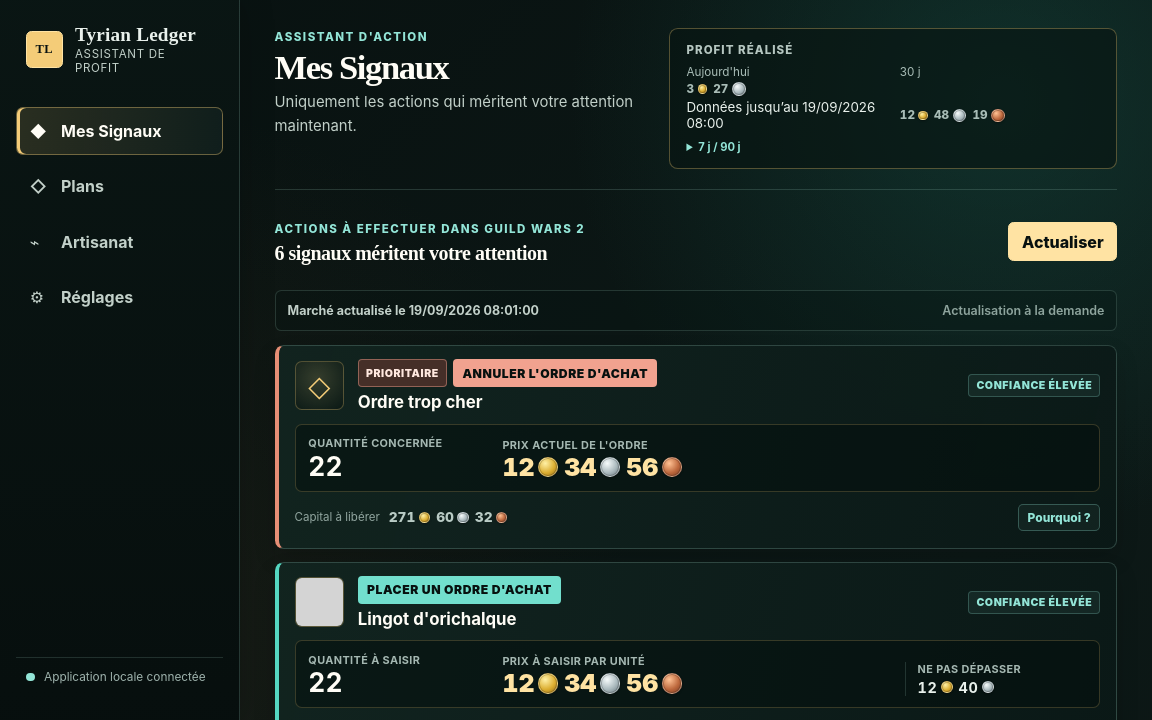
Mes Signaux MVP › labels source freshness explicitly without inventing a countdown
Expected: the text "Marché actualisé le 19/09/2026 08:01:00" is shown, [288,303,539,318]
Expected: the text "Actualisation à la demande" is shown, [942,303,1104,318]
Click the heading "Marché actualisé". click: (413, 310)
box: [288,303,1104,318]
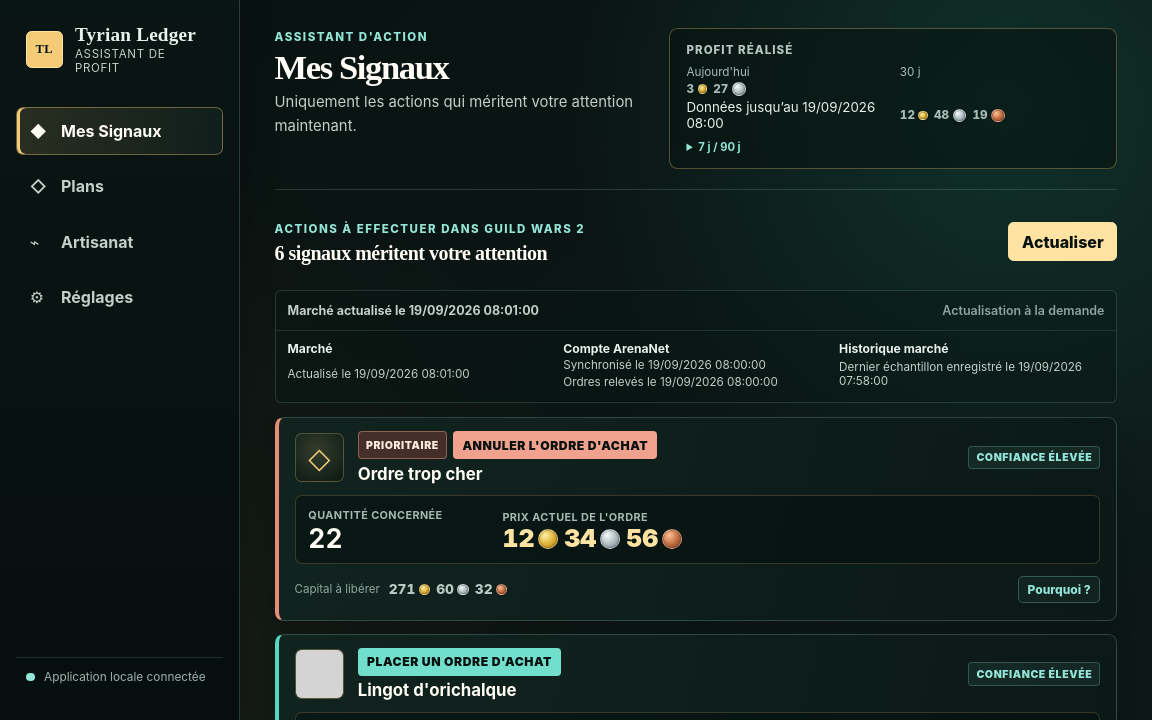
Result: the text "Compte ArenaNet" is shown at [563,341,670,356]
Result: the text "Synchronisé le 19/09/2026 08:00:00" is shown at [563,358,766,372]
Result: the text "Ordres relevés le 19/09/2026 08:00:00" is shown at [563,375,778,389]
